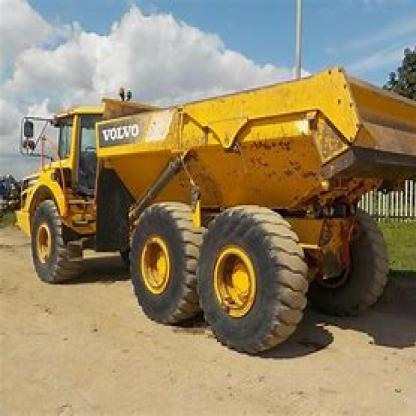dump_truck: (13, 70, 410, 358)
